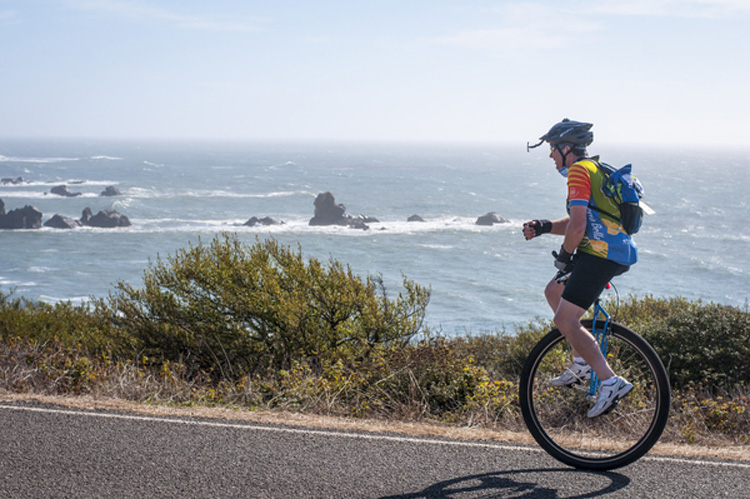wheel: (510, 310, 684, 477)
